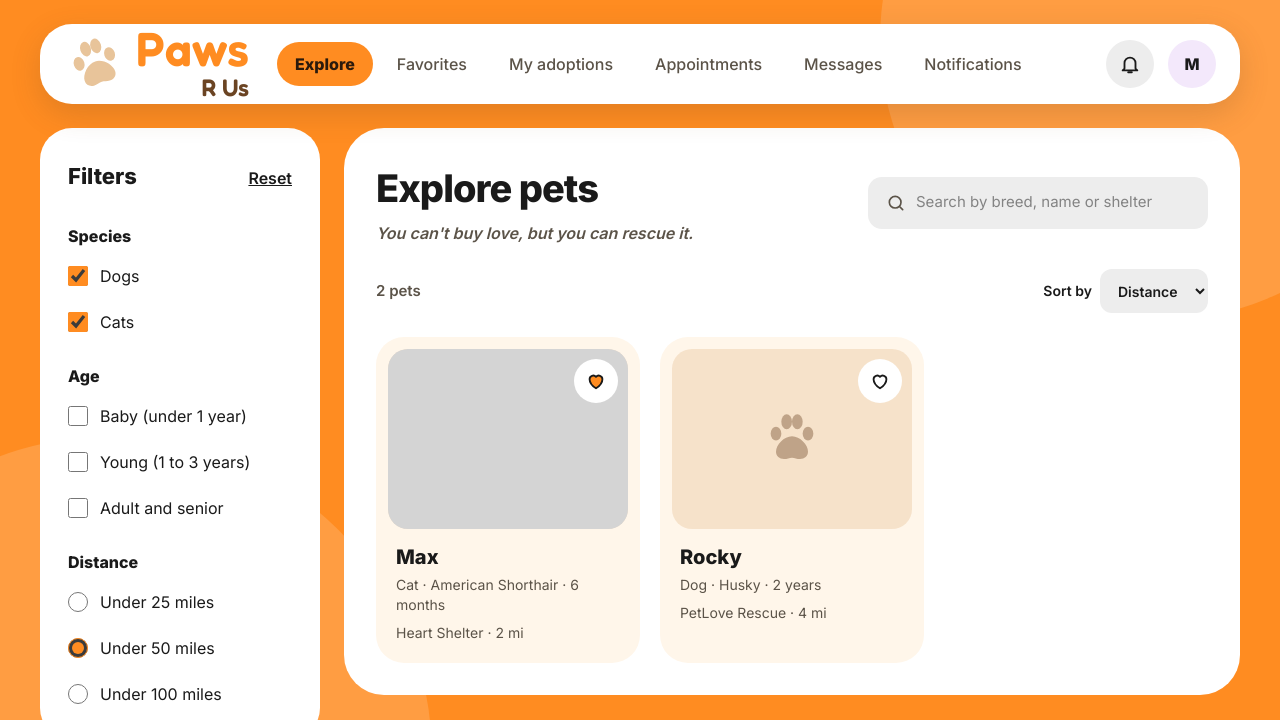
App routing › shows an empty state, and Reset brings the pets back
Type "zzz" into the search field named "search pets".
click(1053, 203); type("zzz")  # box [916,191,1190,214]
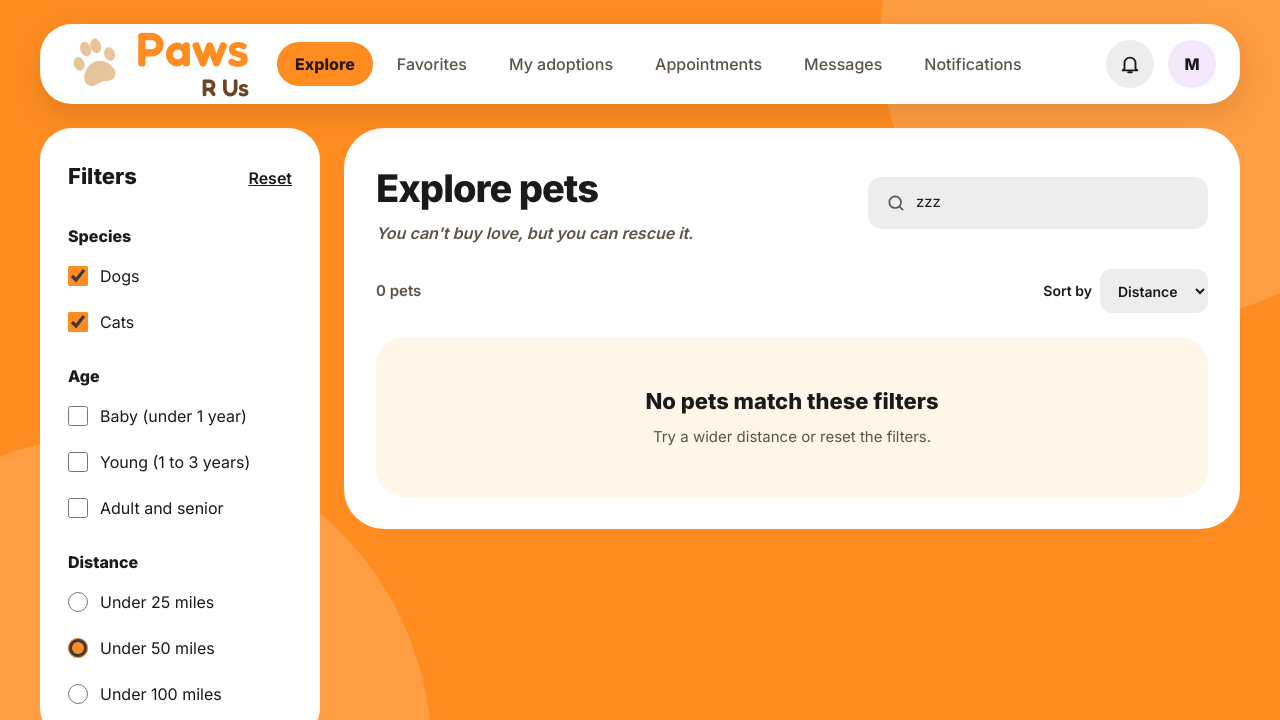
expect the text "0 pets" is shown: met, box [376,280,421,302]
expect the text "No pets match these filters" is shown: met, box [645,385,939,418]
Click the button "Reset".
click(270, 178)  # box [248,156,292,200]
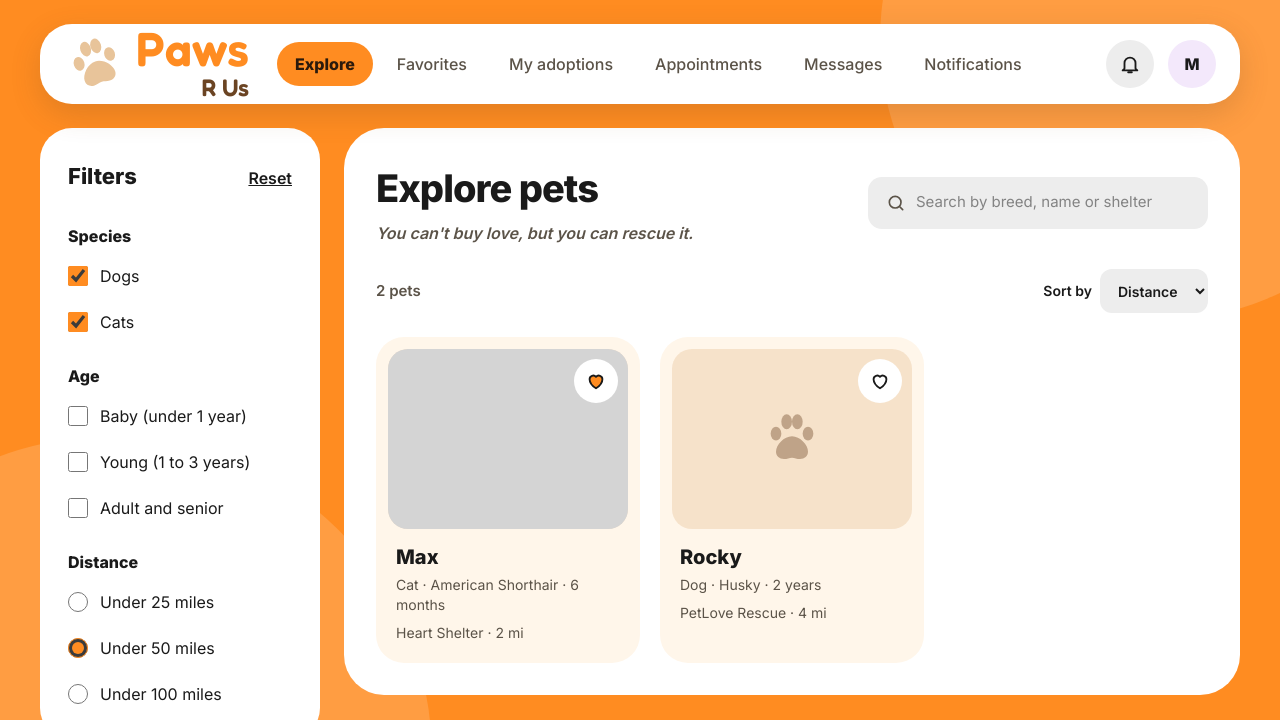
expect the text "2 pets" is shown: met, box [376,280,421,302]
expect the text "No pets match these filters" is gone: met
